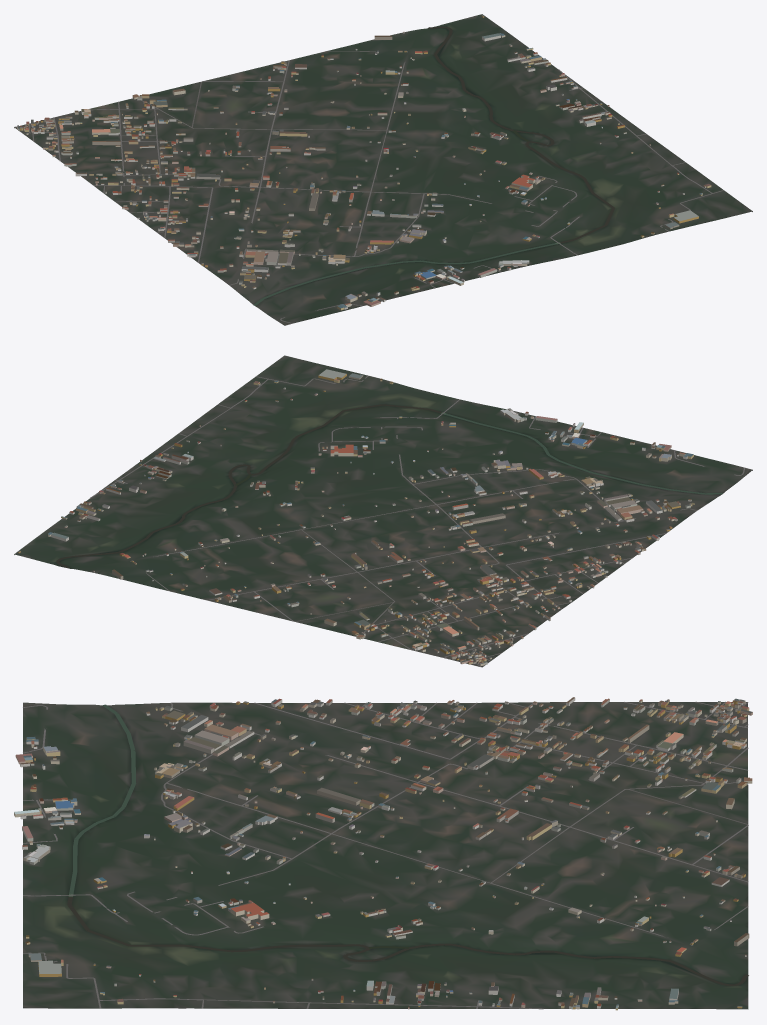
The picture shows the model from 3 angles, top to bottom: view 1: azimuth 30°, elevation 25°; view 2: azimuth 150°, elevation 25°; view 3: azimuth 270°, elevation 25°; orthographic projection. The views are drawn at different scales.
Visible parts, largest first — view 1: ground, buildings, roads, water; view 2: ground, buildings, roads, water; view 3: ground, buildings, roads, water.
Boxes of the visible parts, x1,y1,x2,y2 form: ground: (14,14,752,325); buildings: (17,15,711,310); roads: (15,51,723,323); water: (253,26,614,305); ground: (14,355,752,667); buildings: (18,369,694,665); roads: (90,375,744,667); water: (56,404,722,567); ground: (23,702,748,1009); buildings: (14,697,752,1010); roads: (23,701,748,1009); water: (67,704,748,986).
Bounding box in the file's own units: 1416 × 19.07 × 1429.
